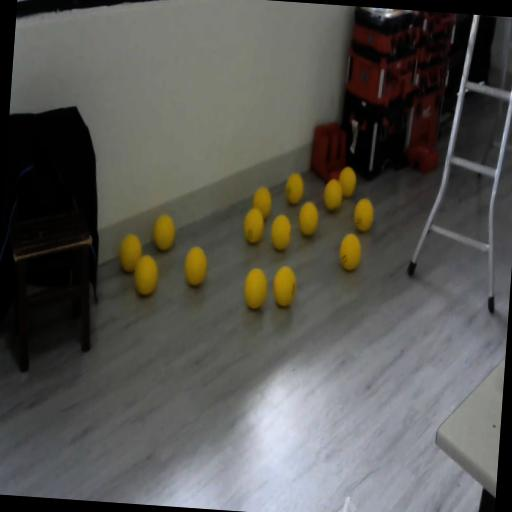FUEL: (132, 252, 160, 298), (242, 266, 270, 310), (182, 245, 209, 289), (272, 264, 298, 308), (118, 234, 144, 274), (152, 212, 177, 252), (338, 232, 362, 272), (268, 213, 292, 252), (296, 200, 320, 238), (251, 186, 273, 222), (322, 176, 344, 212), (352, 198, 374, 232), (337, 165, 358, 198), (285, 172, 305, 205)
